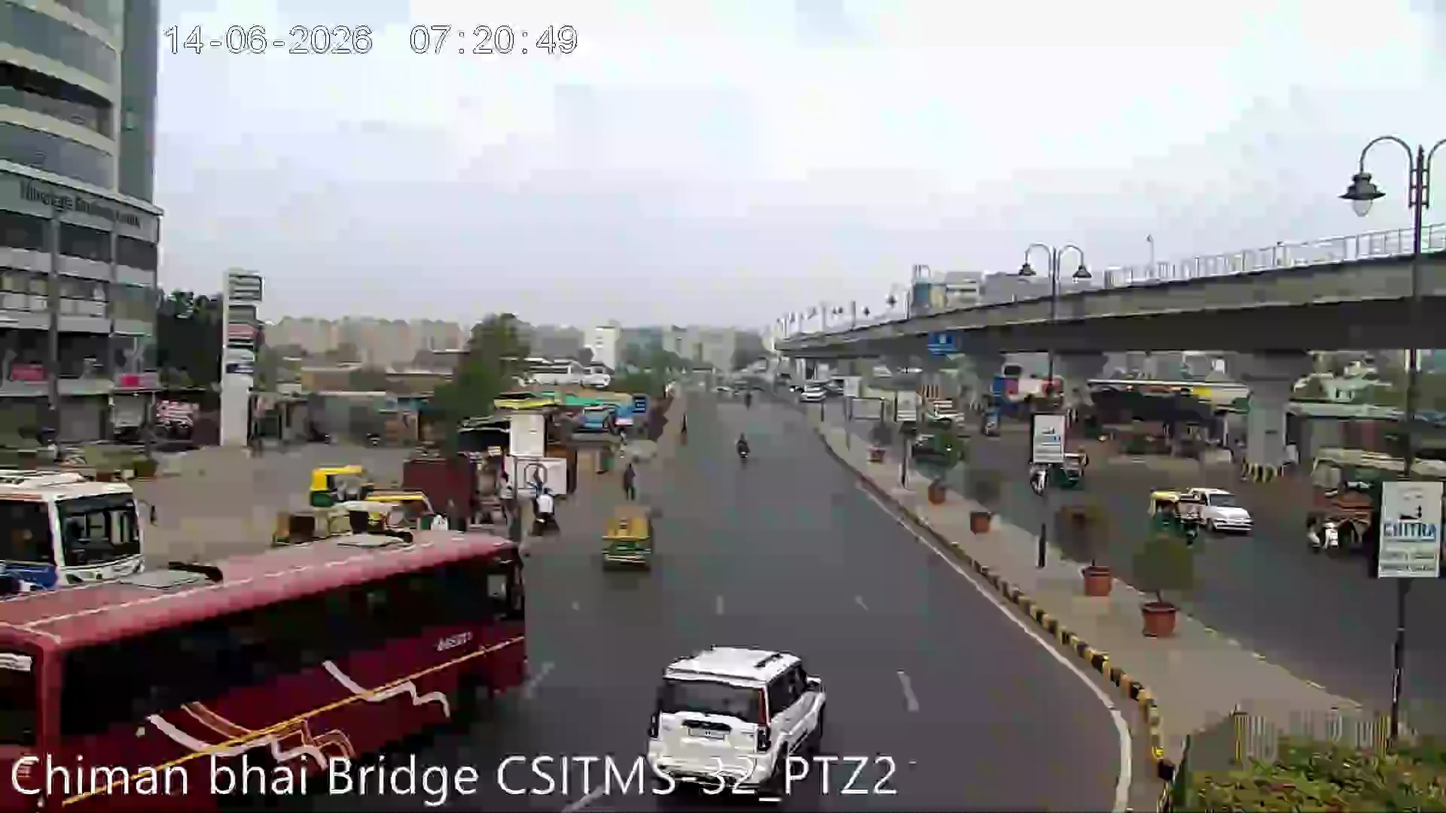auto_rickshaw: (354, 485, 435, 542), (599, 501, 656, 570), (307, 457, 373, 508), (1303, 507, 1366, 553), (1147, 485, 1185, 533), (1051, 448, 1090, 492)
bus: (0, 551, 539, 795), (0, 457, 165, 573), (1301, 442, 1445, 552)
car: (645, 641, 832, 760), (1188, 487, 1255, 534)
pedestrian: (676, 409, 693, 450)
two_wheeler: (733, 426, 756, 468)
